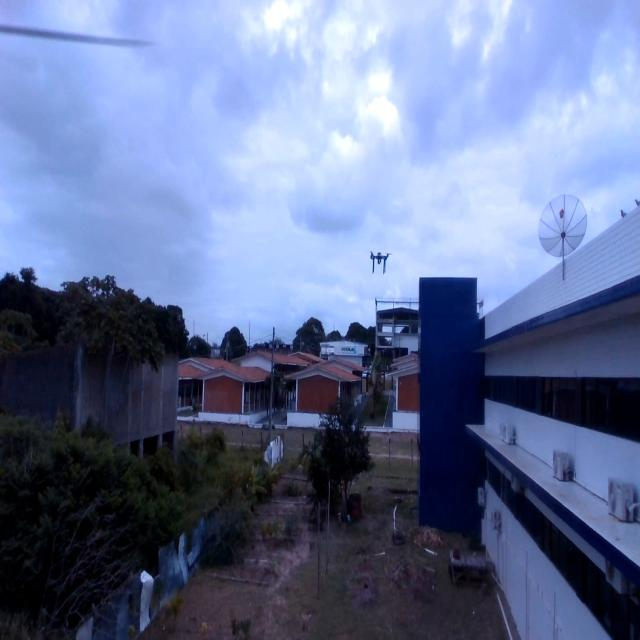-uav-: (364, 240, 394, 279)
